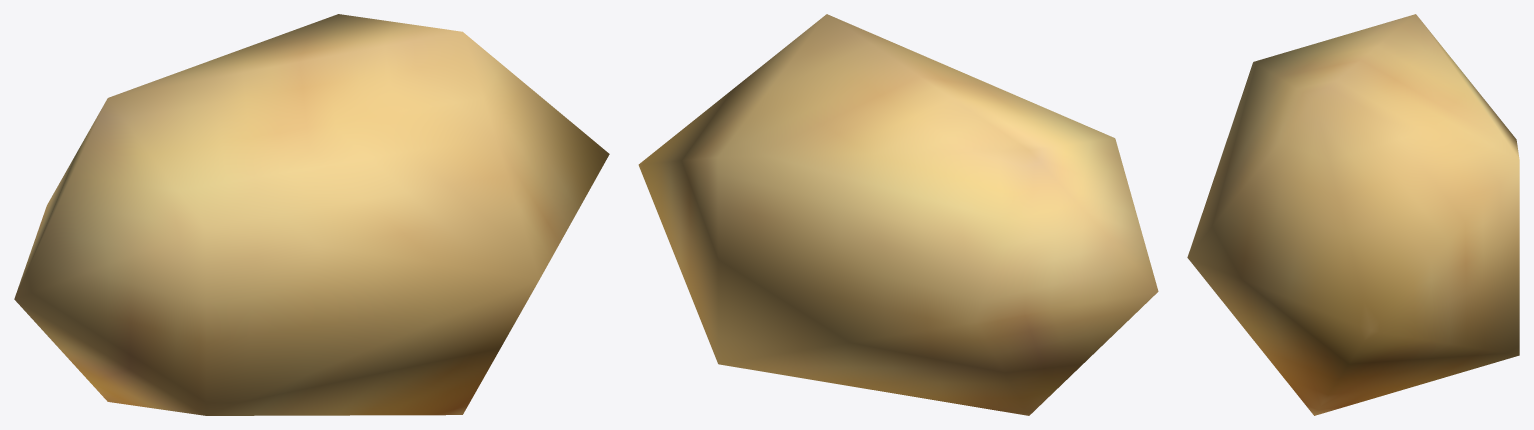
The model's file is Potato_A.fbx.
3 renders of one model, left to right at view 1: azimuth 30°, elevation 25°; view 2: azimuth 150°, elevation 25°; view 3: azimuth 270°, elevation 25°, orthographic. The views are drawn at different scales.
Visible parts, largest first — view 1: Potato_A; view 2: Potato_A; view 3: Potato_A.
Boxes of the visible parts, x1,y1,x2,y2 form: Potato_A: (14,14,609,415); Potato_A: (638,14,1158,415); Potato_A: (1187,14,1519,415).
Bounding box in the file's own units: 0.3553 × 0.2185 × 0.2078.
